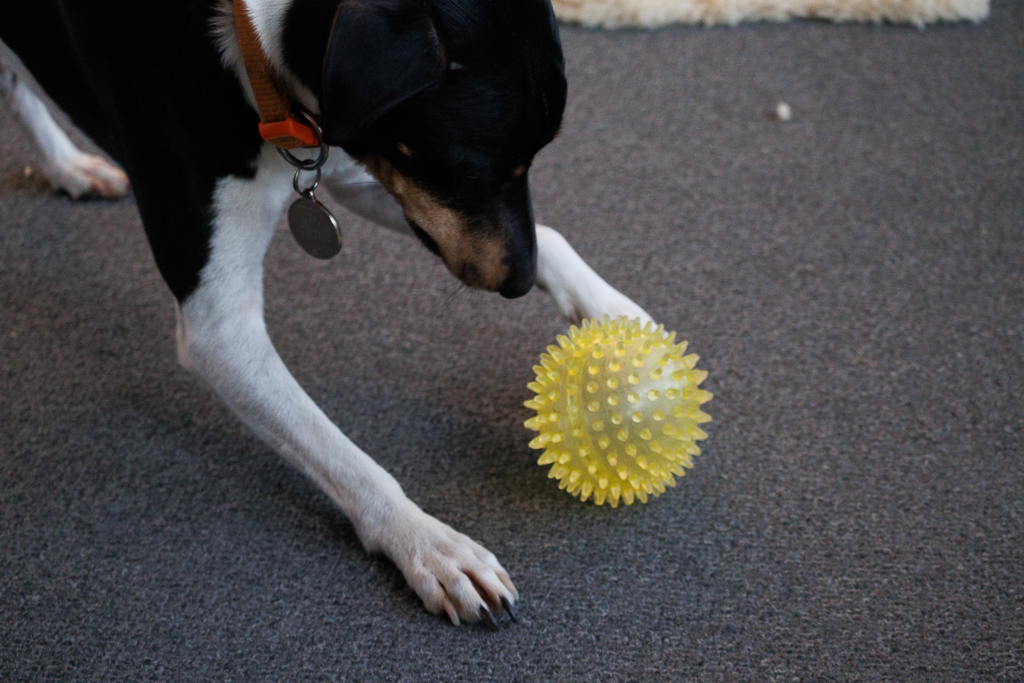Dog: (0, 0, 694, 641)
